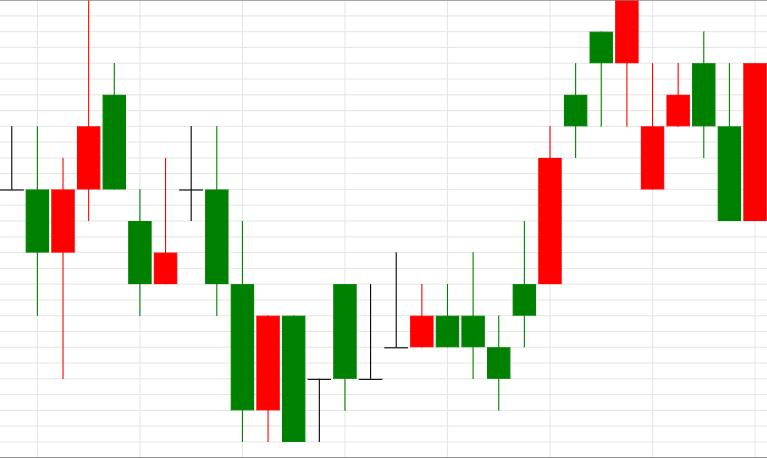hanging_man_fall: (487, 32, 612, 410)
